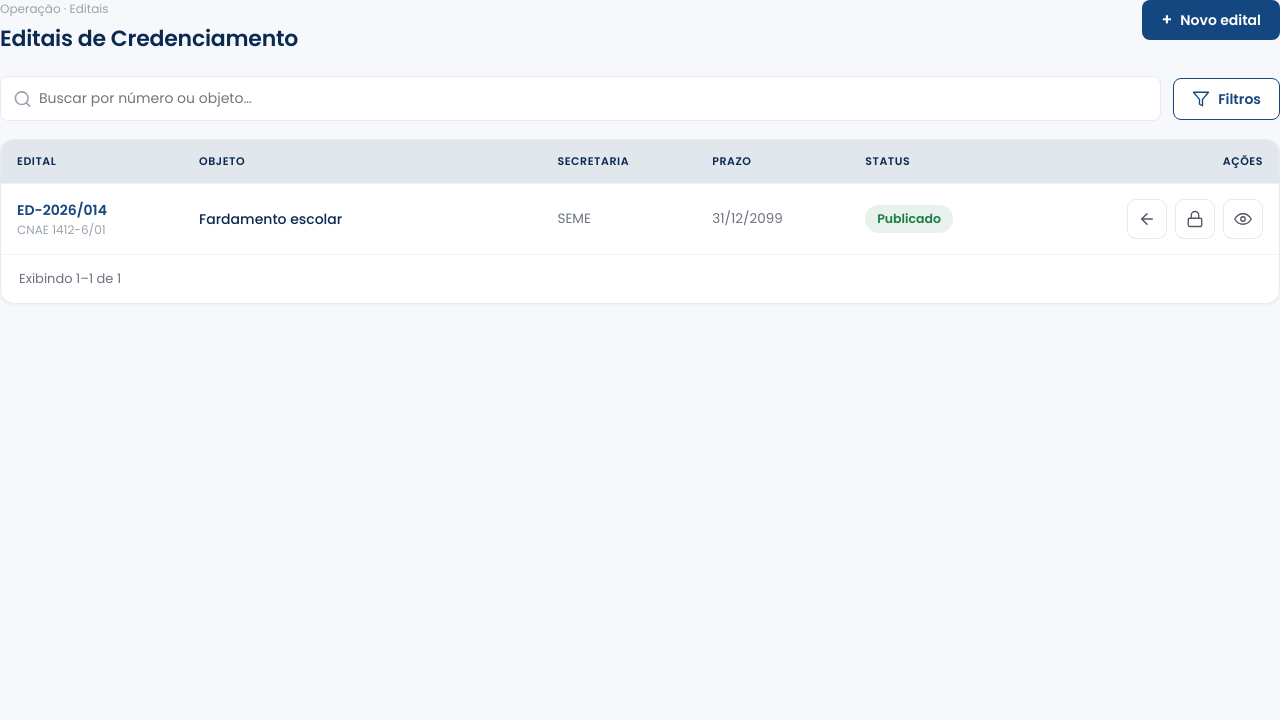
GerirEditais — Gestão de Editais (SGMA, /admin/editais) › "Ver" abre o modal read-only com os detalhes do edital e "Fechar" o encerra
Click the button with test id "ver-detalhes" at x=1243, y=219, box x1=1223 y1=199 x2=1263 y2=239
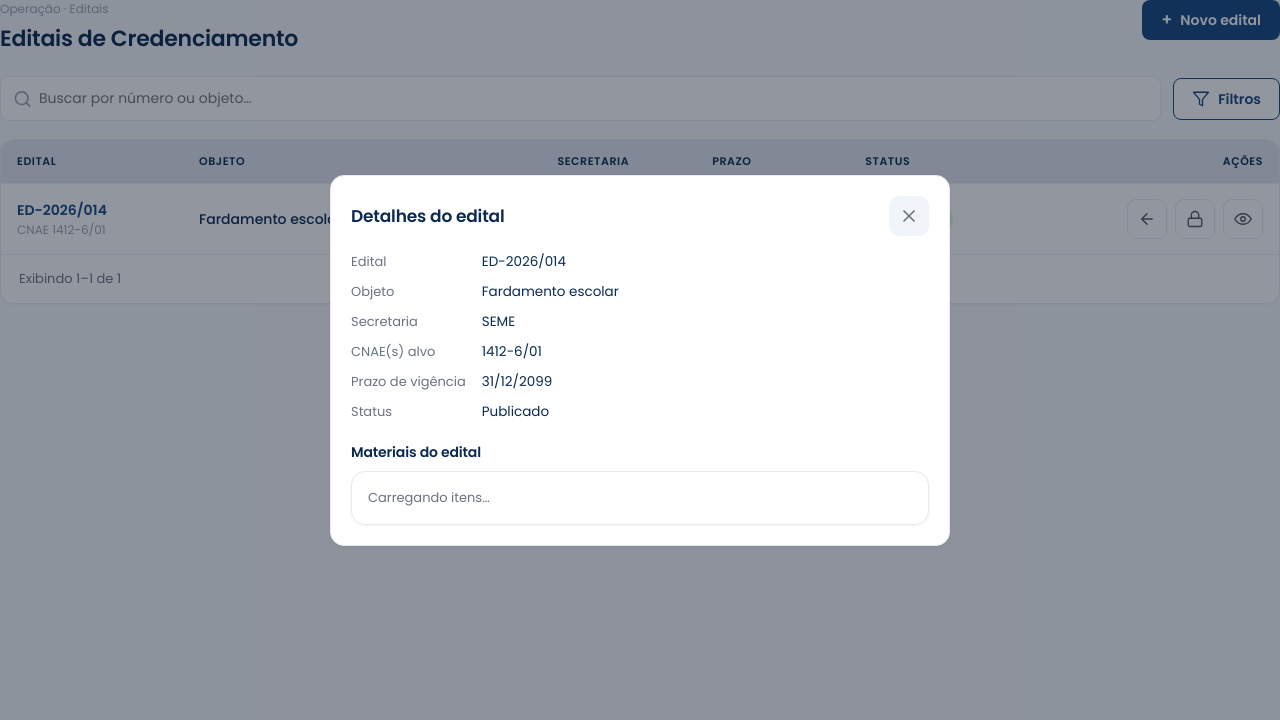
expect the text "ED-2026/014" is shown: met, box x1=482 y1=252 x2=566 y2=270
expect the text "Fardamento escolar" is shown: met, box x1=482 y1=282 x2=619 y2=300
Click the button with test id "fechar-modal" at x=909, y=216, box x1=889 y1=196 x2=929 y2=236
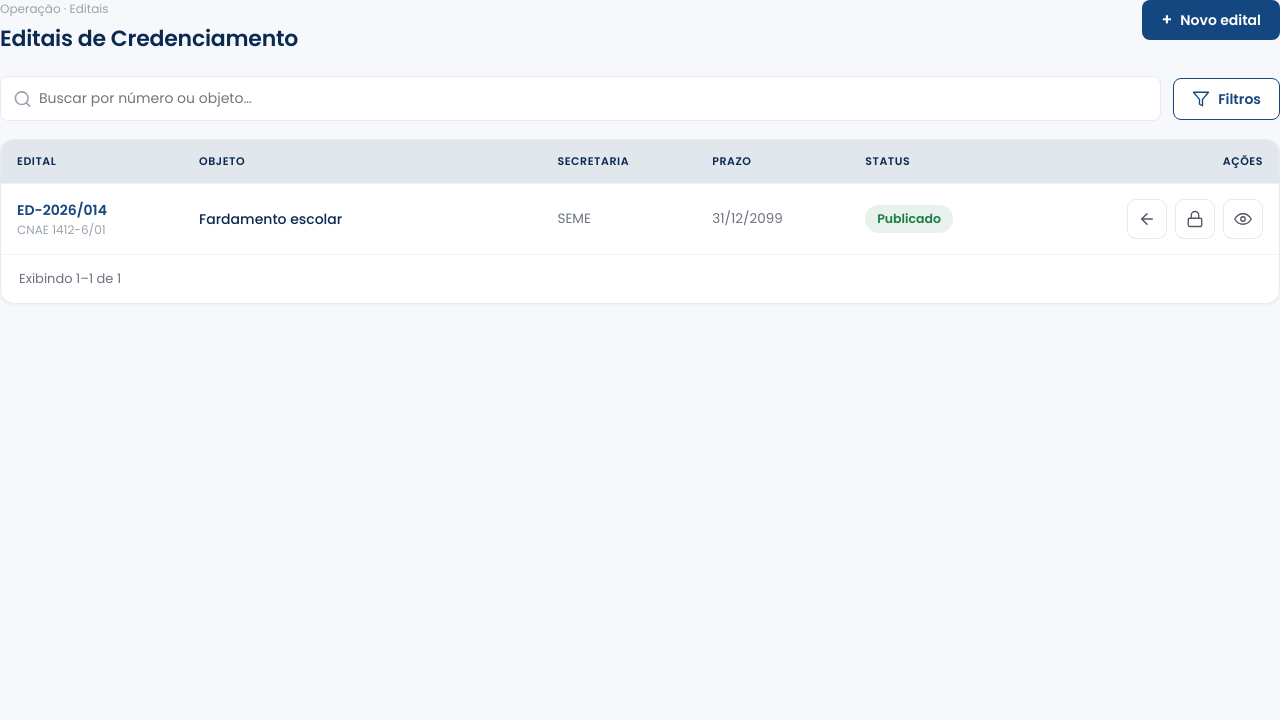
expect the dialog with test id "modal-edital" is gone: met
